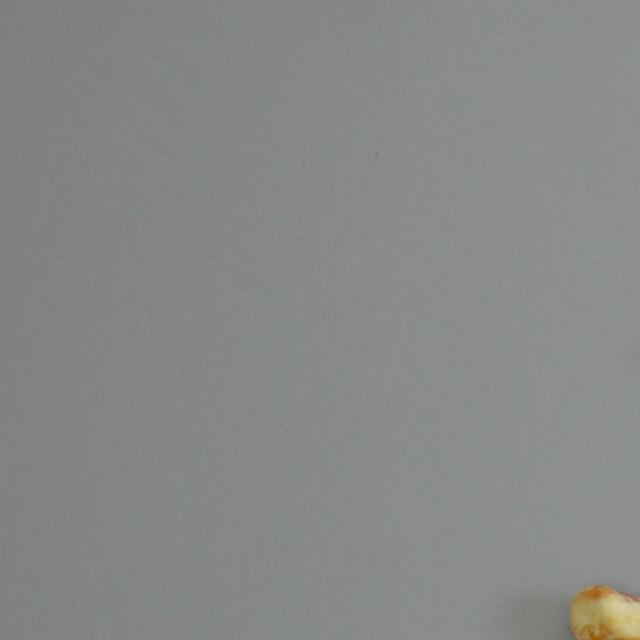dañado: (570, 578, 640, 640)
